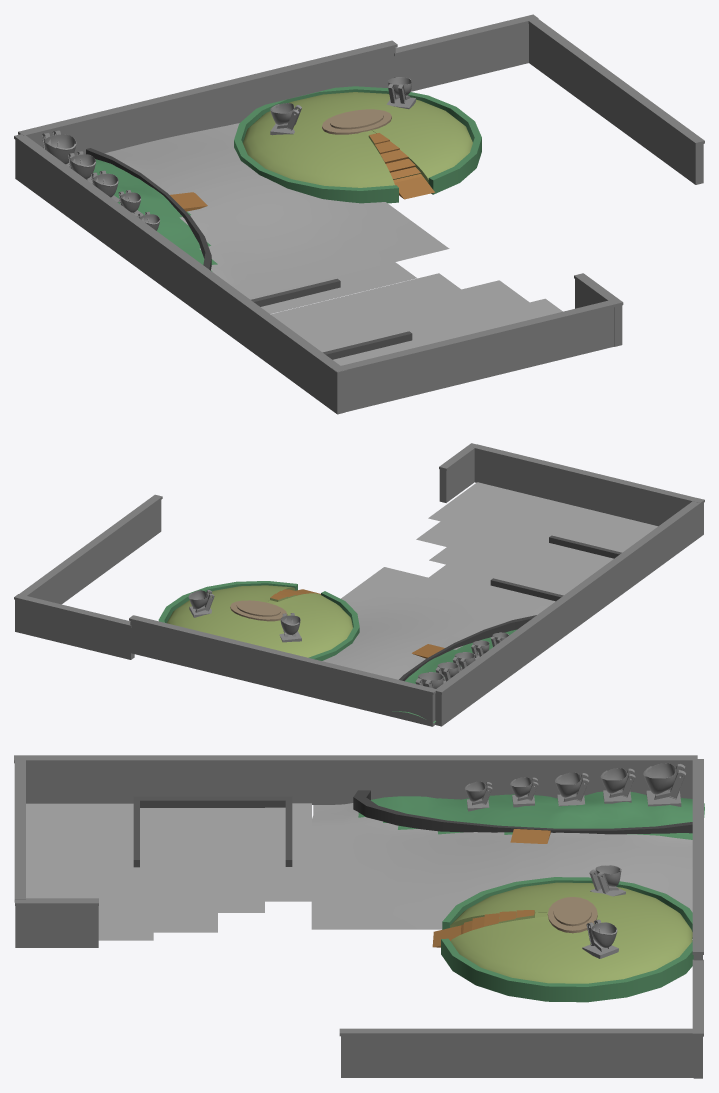
Rendered from bagian_luar_gabungan.fbx.
3 views of the same model, one above another, from view 1: azimuth 30°, elevation 25°; view 2: azimuth 150°, elevation 25°; view 3: azimuth 270°, elevation 25° (orthographic). The views are drawn at different scales.
Parts seen in each view (by area): view 1: tembok_luar, pPlane6, pSphere284, pPlane9, pCylinder107, pPlane8, pPlane7, pPlane10, TEMPATPARKIT, pCylinder110, pCylinder109, emberkeruk_1 (+2 smaller); view 2: tembok_luar, pPlane6, pPlane9, pSphere284, pPlane8, pPlane10, pPlane7, pCylinder107, TEMPATPARKIT, pCylinder110, jalan_luar_bagian_ke_2, emberkeruk_2_2_2 (+2 smaller); view 3: tembok_luar, pPlane6, pPlane9, pSphere284, pCylinder107, pPlane8, pPlane7, pCylinder110, TEMPATPARKIT, pPlane10, emberkeruk_2, emberkeruk_3 (+9 smaller).
Part boxes in pixels (bbox=[...]): tembok_luar: bbox=[14, 14, 704, 414]; pPlane6: bbox=[93, 123, 449, 297]; pSphere284: bbox=[243, 92, 472, 187]; pPlane9: bbox=[293, 290, 507, 365]; pCylinder107: bbox=[234, 86, 481, 203]; pPlane8: bbox=[271, 273, 460, 330]; pPlane7: bbox=[248, 262, 416, 313]; pPlane10: bbox=[458, 280, 545, 325]; TEMPATPARKIT: bbox=[251, 278, 412, 359]; pCylinder110: bbox=[86, 148, 211, 270]; pCylinder109: bbox=[330, 109, 383, 129]; emberkeruk_1: bbox=[270, 103, 301, 135]; tembok_luar: bbox=[14, 443, 704, 726]; pPlane6: bbox=[322, 567, 547, 722]; pPlane9: bbox=[447, 493, 657, 580]; pSphere284: bbox=[167, 585, 352, 657]; pPlane8: bbox=[429, 547, 583, 593]; pPlane10: bbox=[416, 485, 522, 546]; pPlane7: bbox=[429, 564, 565, 606]; pCylinder107: bbox=[158, 581, 359, 660]; TEMPATPARKIT: bbox=[490, 535, 621, 601]; pCylinder110: bbox=[399, 615, 536, 681]; jalan_luar_bagian_ke_2: bbox=[428, 482, 495, 522]; emberkeruk_2_2_2: bbox=[188, 590, 214, 617]; tembok_luar: bbox=[14, 755, 703, 1078]; pPlane6: bbox=[311, 791, 704, 929]; pPlane9: bbox=[26, 803, 217, 912]; pSphere284: bbox=[450, 882, 692, 983]; pCylinder107: bbox=[441, 877, 693, 1002]; pPlane8: bbox=[218, 808, 264, 912]; pPlane7: bbox=[265, 803, 311, 901]; pCylinder110: bbox=[353, 790, 692, 834]; TEMPATPARKIT: bbox=[133, 796, 292, 867]; pPlane10: bbox=[98, 912, 217, 932]; emberkeruk_2: bbox=[643, 763, 685, 806]; emberkeruk_3: bbox=[600, 768, 635, 803].
Bounding box in the file's own units: 97.59 × 10.13 × 106.
